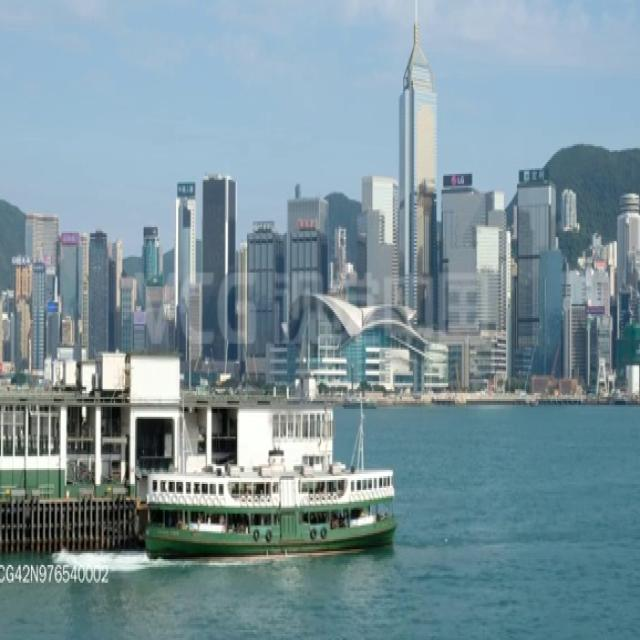passenger ship: (143, 449, 397, 557)
